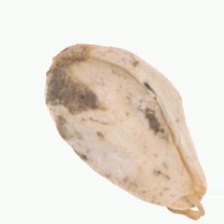L1: (160, 183, 208, 221), (45, 43, 94, 67)
L2: (44, 42, 208, 220)
